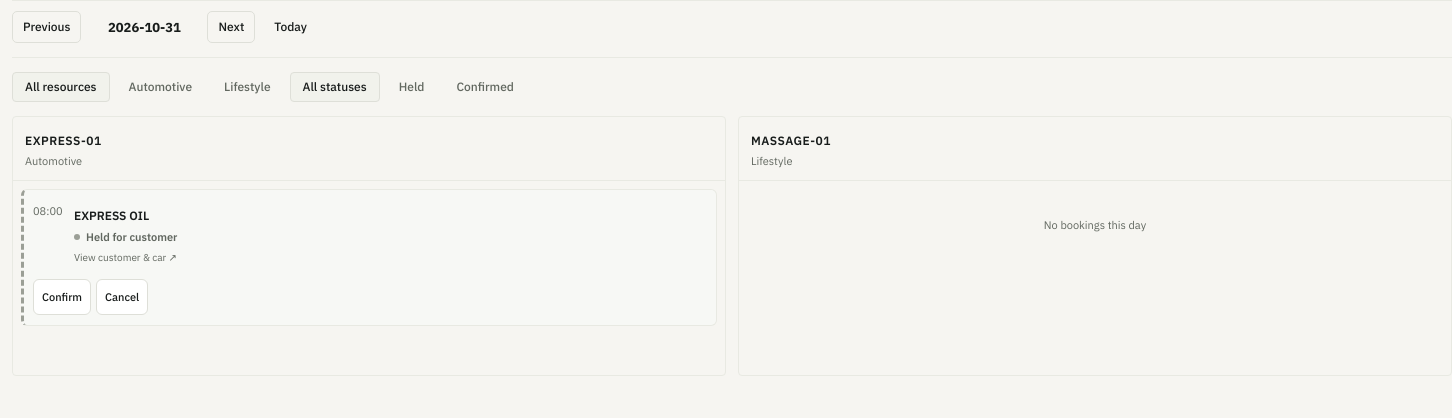
Scenario: transitions real held bookings and leaves the calendar unchanged on a rejected action
Click the button "Confirm" at (62, 297), box [33,279,91,315]
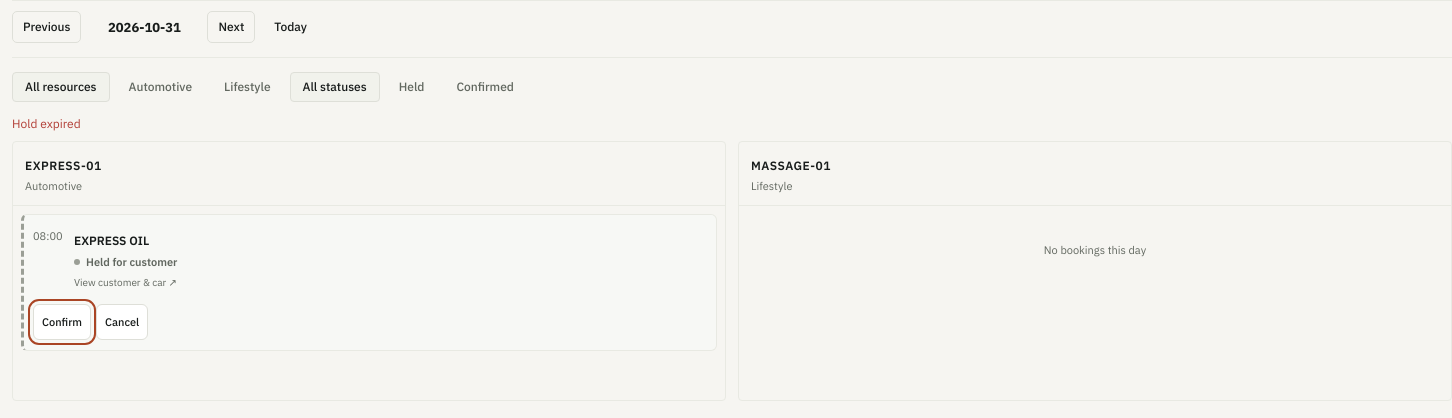
Expected: the message reads "Hold expired", [12,116,81,131]
Click the button "Cancel" at (122, 322), box [96,304,148,340]
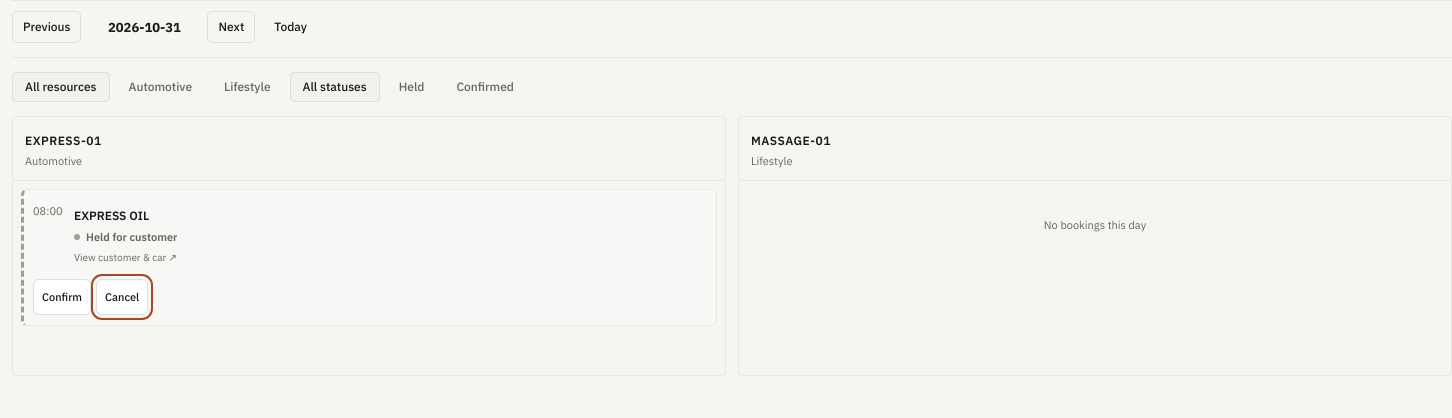
Expected: the message "Hold expired" is gone
